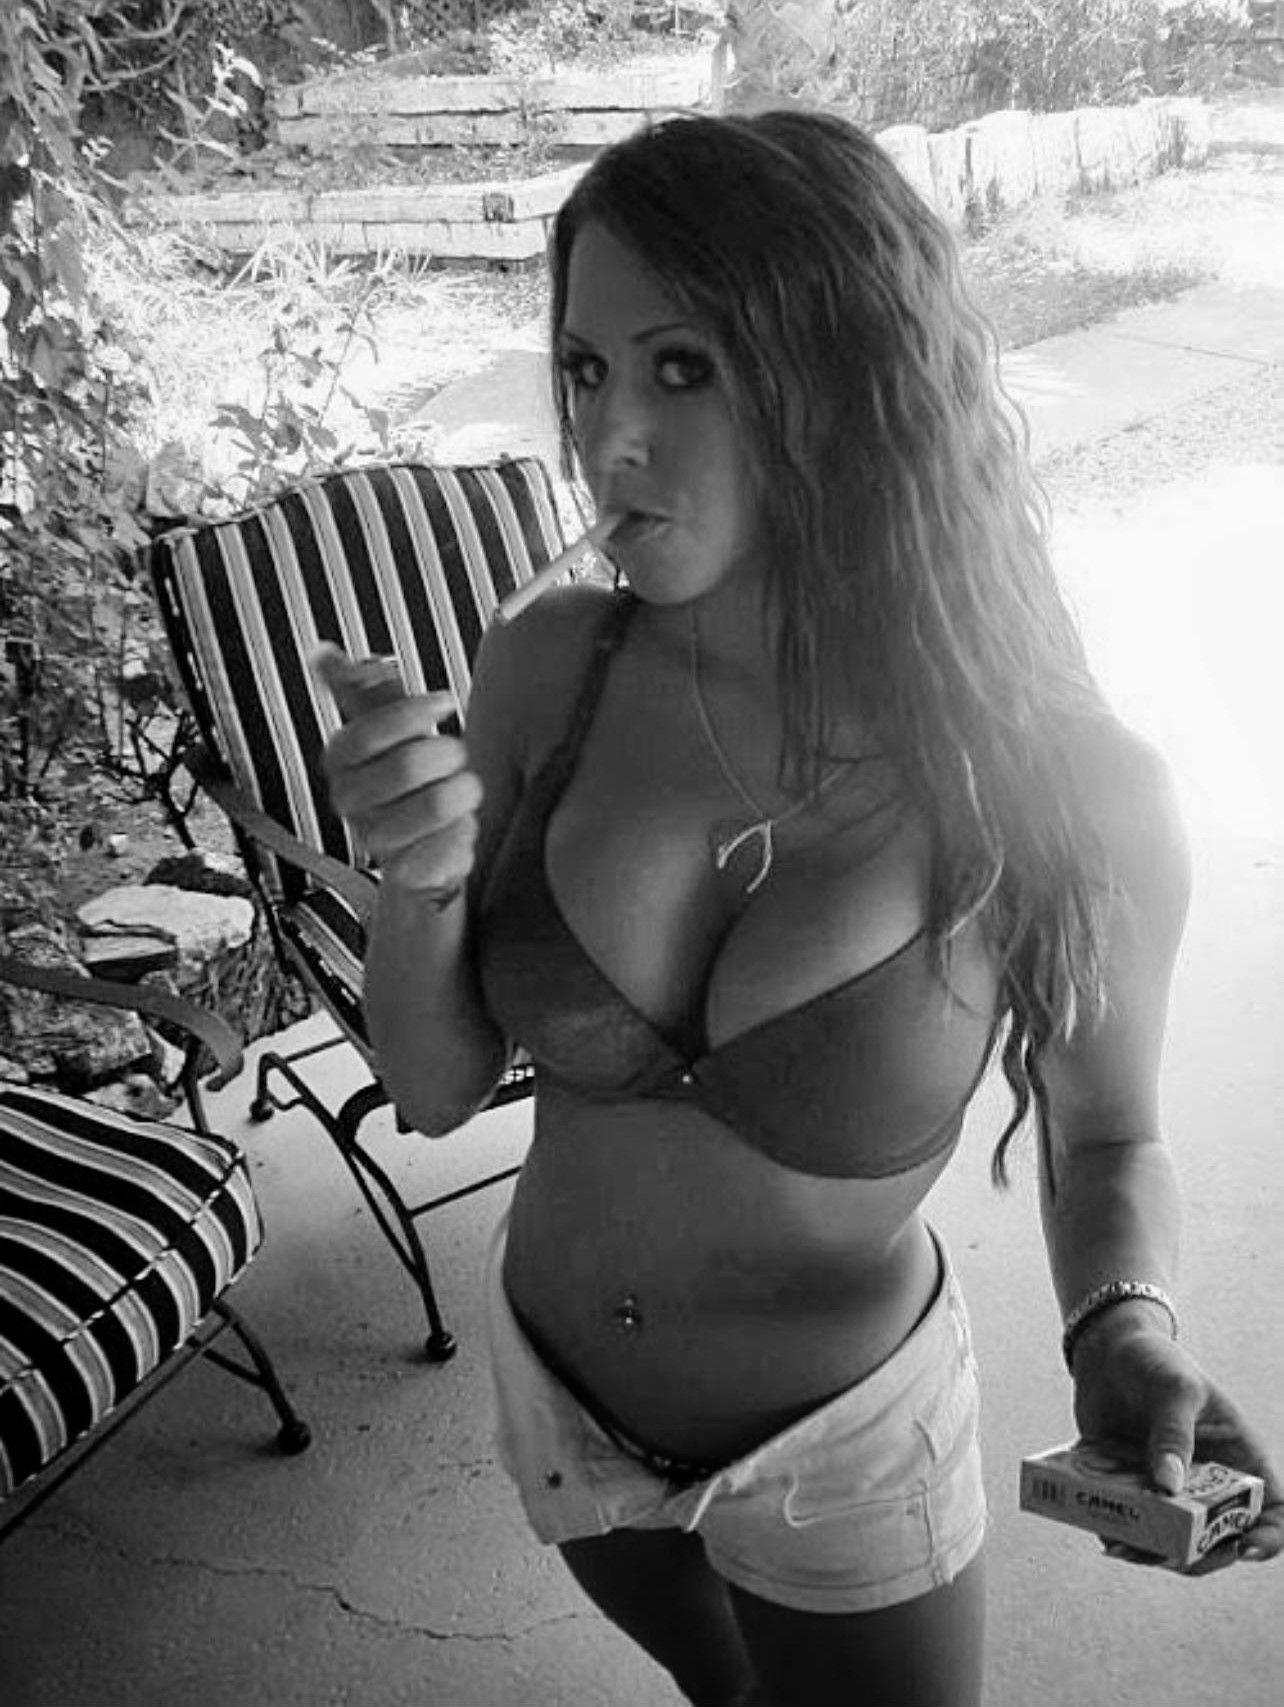cigarette: (492, 507, 631, 627)
